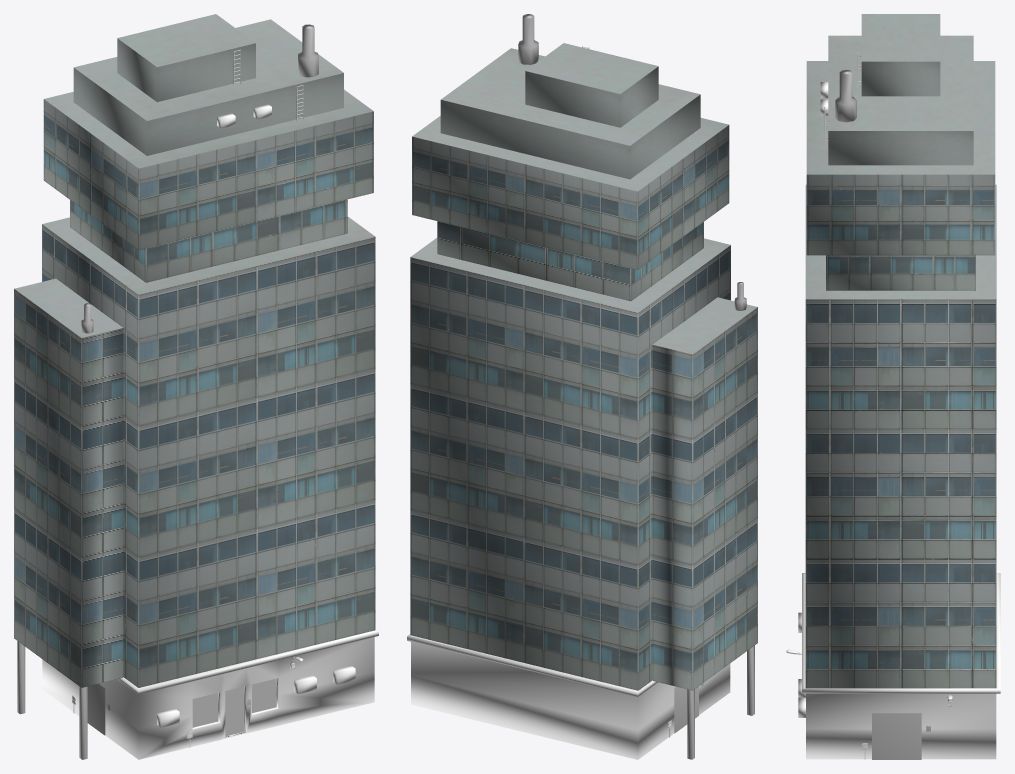
File: c2_tower2.fbx
3 views of the same model, side by side, from view 1: azimuth 30°, elevation 25°; view 2: azimuth 150°, elevation 25°; view 3: azimuth 270°, elevation 25° (orthographic). The views are drawn at different scales.
Parts seen in each view (by area): view 1: mesh; view 2: mesh; view 3: mesh.
Boxes of the visible parts, x1,y1,x2,y2 form: mesh: (14,14,378,759); mesh: (407,14,757,759); mesh: (786,14,1000,759).
Bounding box in the file's own units: 1618 × 3517 × 1024.
